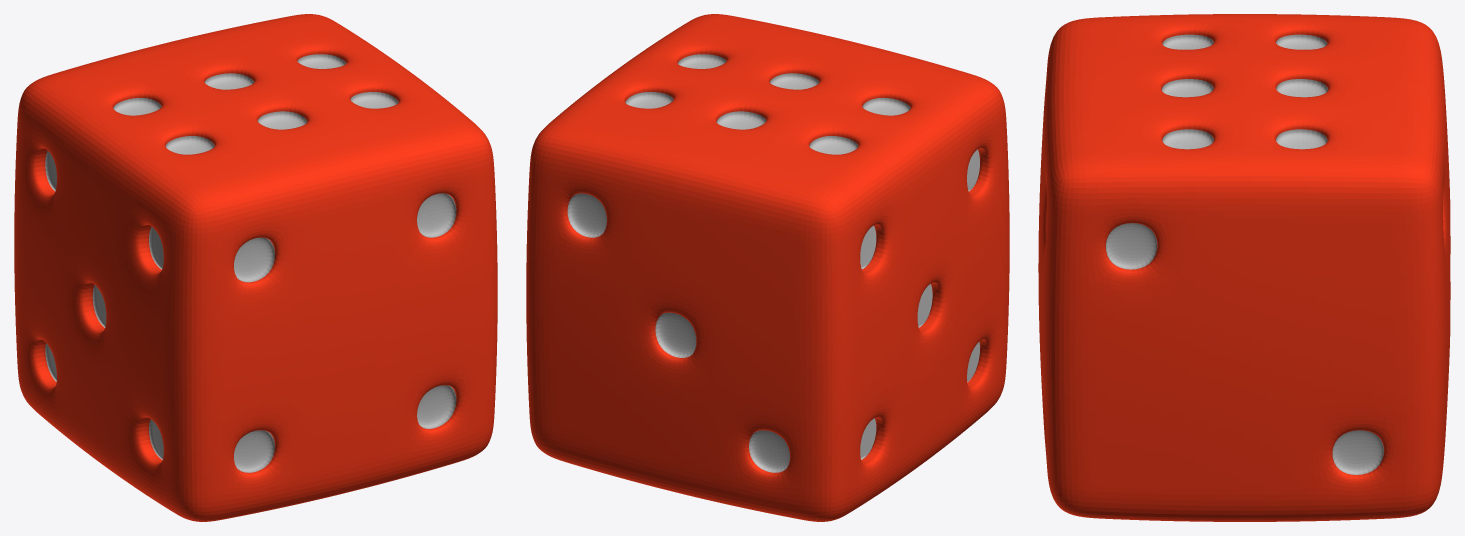
File: dadoRojo.fbx
The picture shows the model from 3 angles, left to right: view 1: azimuth 30°, elevation 25°; view 2: azimuth 150°, elevation 25°; view 3: azimuth 270°, elevation 25°; orthographic projection. The views are drawn at different scales.
Parts seen in each view (by area): view 1: Dado1; view 2: Dado1; view 3: Dado1.
Part boxes in pixels (bbox=[...]): Dado1: bbox=[14, 14, 497, 521]; Dado1: bbox=[526, 14, 1009, 521]; Dado1: bbox=[1038, 14, 1450, 521].
Size of the model in its own units: 212 by 212 by 212.
